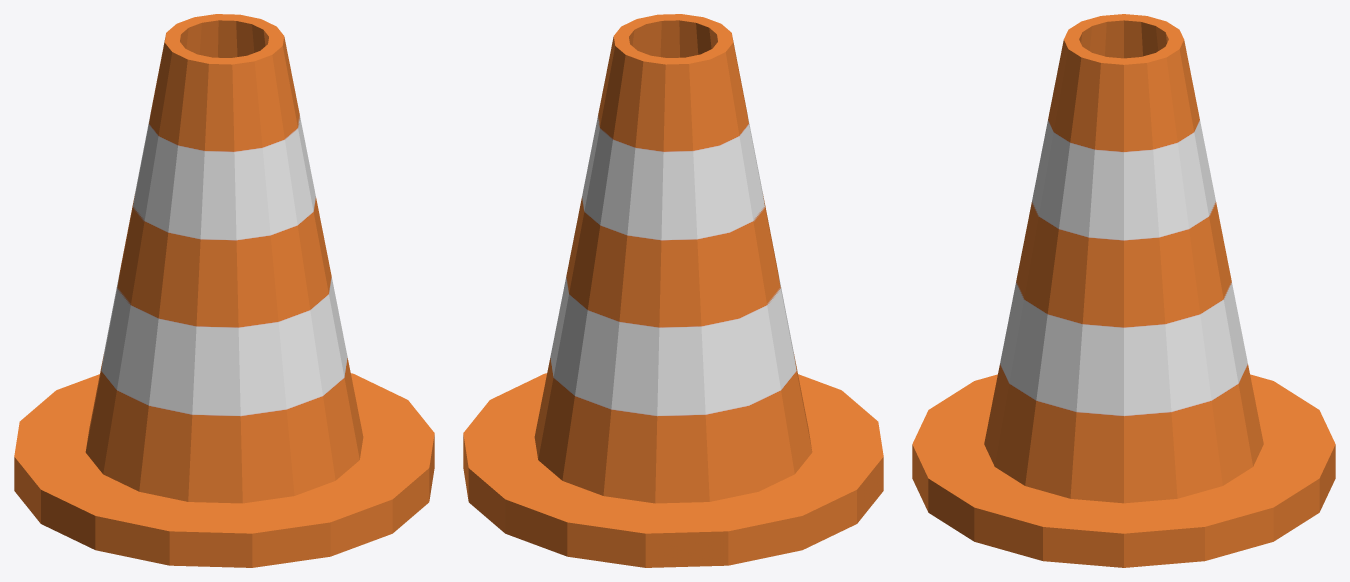
3 views of the same model, side by side, from view 1: azimuth 30°, elevation 25°; view 2: azimuth 150°, elevation 25°; view 3: azimuth 270°, elevation 25° (orthographic).
Parts seen in each view (by area): view 1: Cylinder; view 2: Cylinder; view 3: Cylinder.
Part boxes in pixels (x1,y1,x2,y2): Cylinder: (14,14,434,567); Cylinder: (463,14,883,567); Cylinder: (912,14,1335,567).
Size of the model in its own units: 3.03 by 3.46 by 3.03.
1 material, 1 textured.
